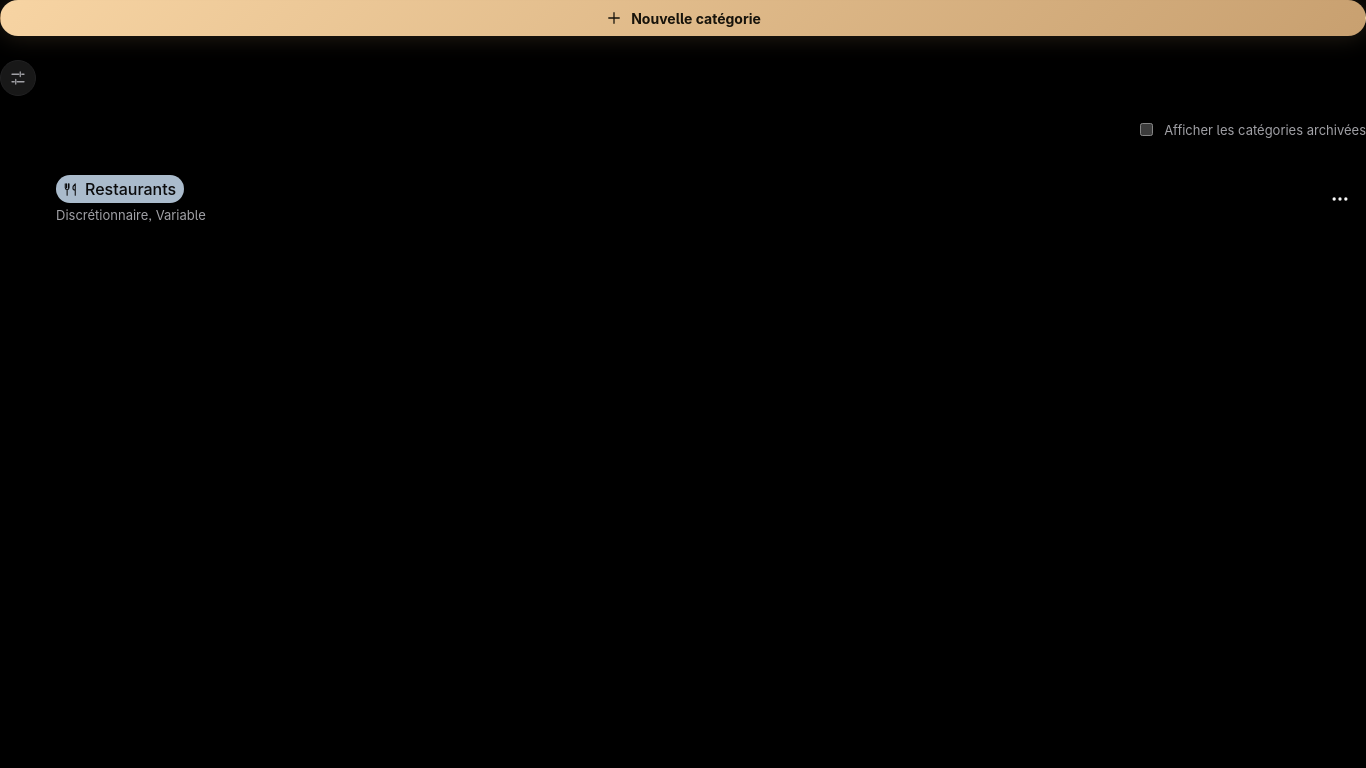
CategoryPage › explains a backend type-edit restriction
Check: the text "Restaurants" is shown, box [85,179,176,199]
Click the button named "Actions de la catégorie « Restaurants »". click: [1340, 199]
box: [1322,181,1358,217]
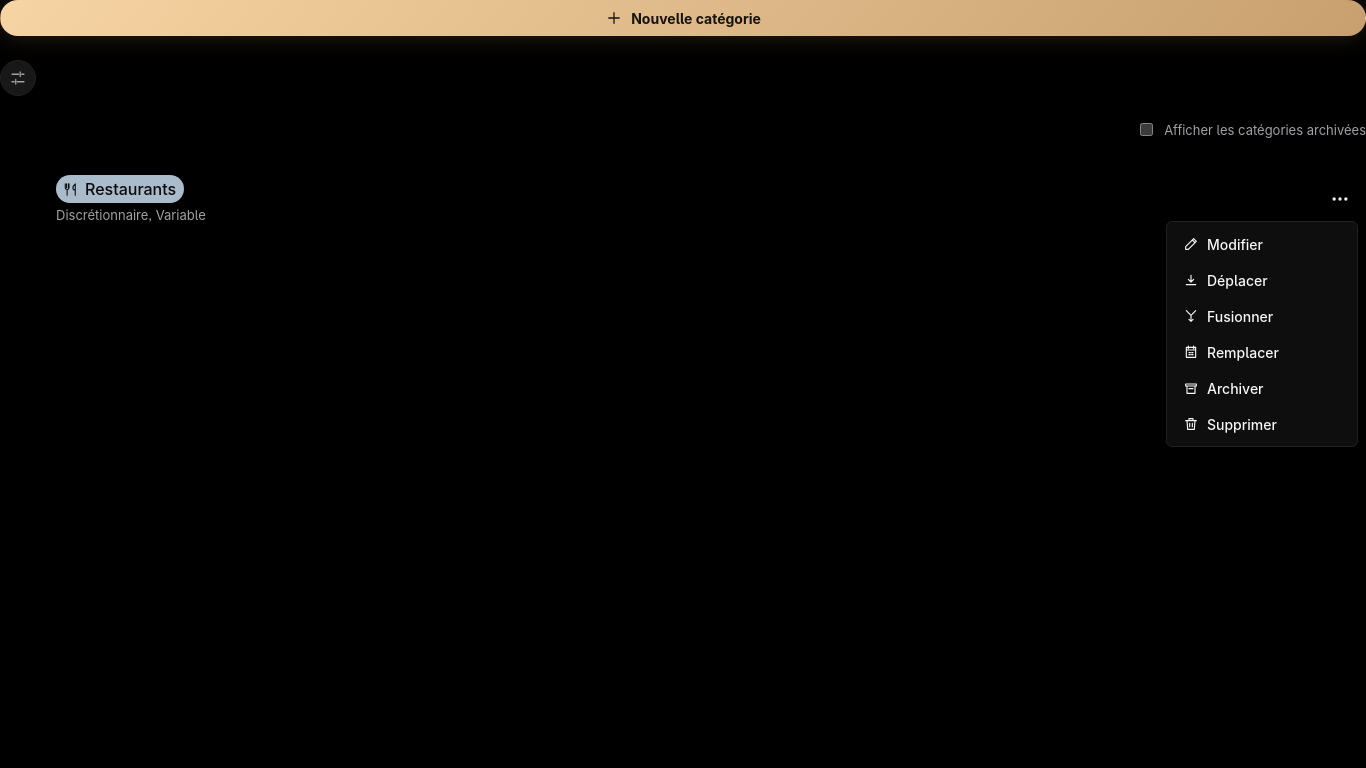
Click the button "Modifier". click: [1262, 244]
box: [1171,226,1353,262]
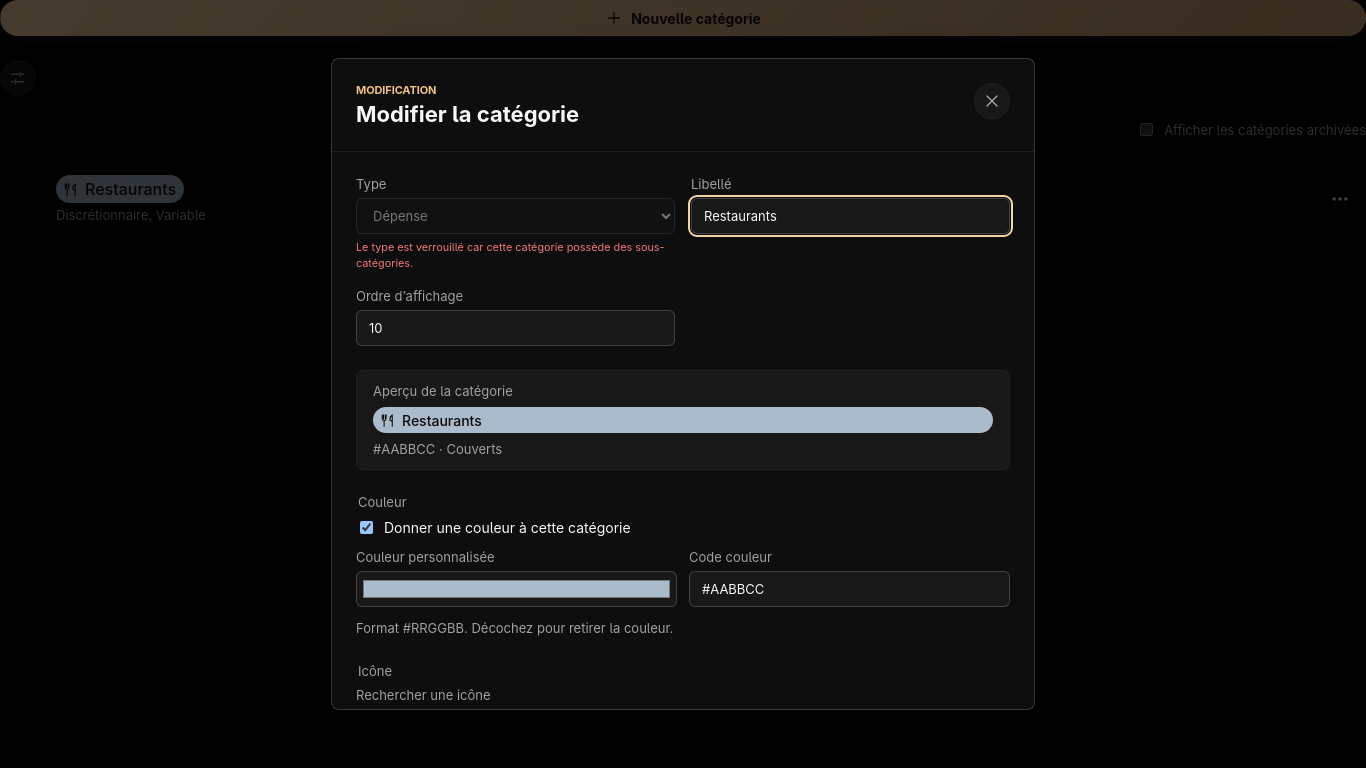
Check: the dropdown labelled "Type" is disabled, box [356,198,675,234]
Check: the text "Le type est verrouillé car cette catégorie possède des sous-catégories." is shown, box [356,240,675,272]
